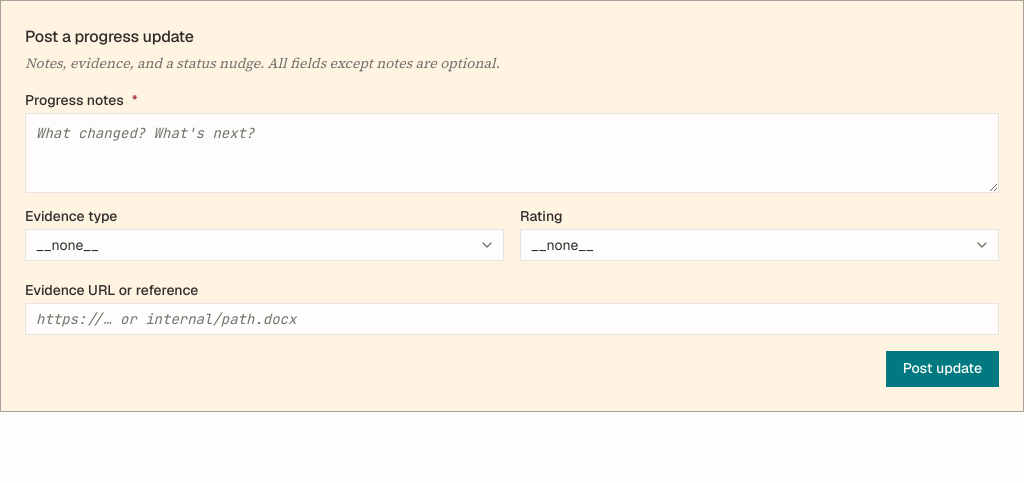
Test case: <ProgressUpdateForm> › renders an error banner when the action returns ok: false
Step 1. Type "note" into the text box labelled "Progress notes *" → (512, 153), box 25,113 -> 999,193
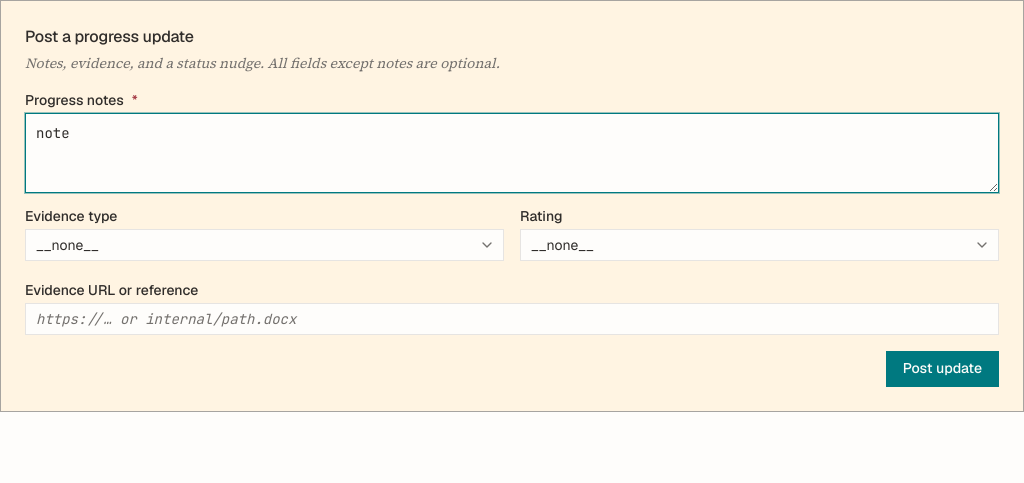
Step 2. Click the button "Post update" → (942, 369), box 886,351 -> 999,387
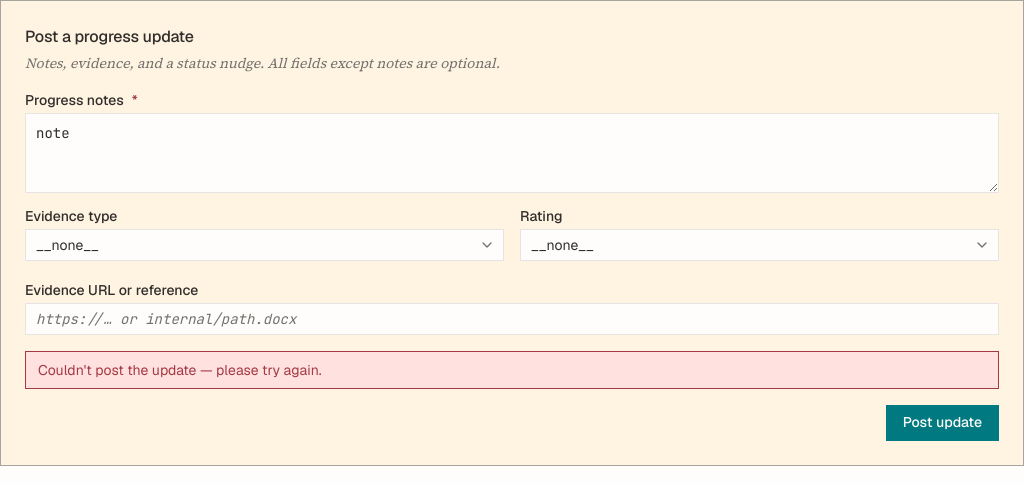
Result: the message shows "Couldn't post" at 38,361 -> 322,379
